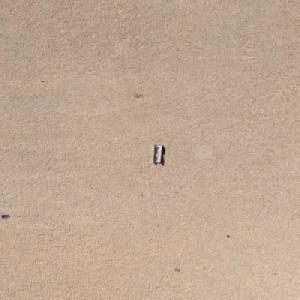ClampPart: (151, 143, 163, 163)
